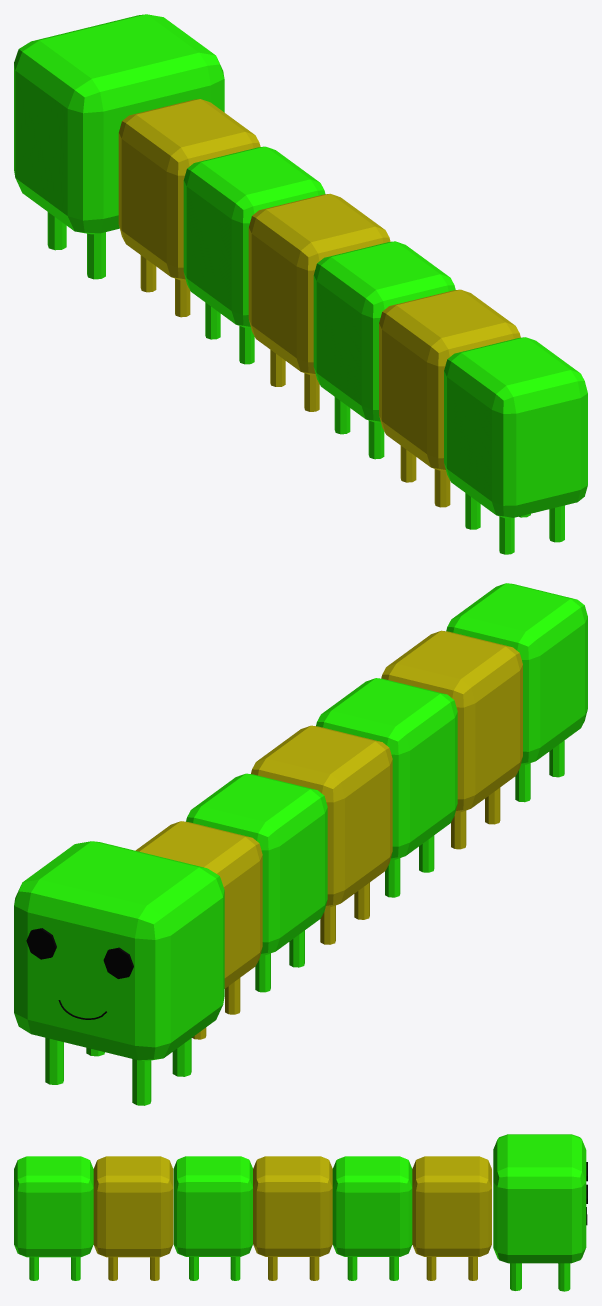
Rendered from catterpillar.fbx.
3 views of the same model, one above another, from view 1: azimuth 30°, elevation 25°; view 2: azimuth 150°, elevation 25°; view 3: azimuth 270°, elevation 25° (orthographic). The views are drawn at different scales.
Visible parts, largest first — view 1: Cube.008, Cube.006, Cube, Cube.003, Cube.001, Cube.002, Cube.007, Cylinder.027; view 2: Cube.008, Cube.001, Cube, Cube.002, Cube.007, Cube.006, Cube.003, Cylinder.029, Cylinder.030, Cylinder.031, Cylinder.032; view 3: Cube.008, Cube.007, Cube.002, Cube.006, Cube.003, Cube, Cube.001, Cylinder.030, Cylinder.028, Cylinder.014, Cylinder.018, Cylinder.020 (+9 smaller).
Boxes of the visible parts, x1,y1,x2,y2 form: Cube.008: [14, 14, 224, 234]; Cube.006: [444, 337, 587, 518]; Cube: [313, 241, 455, 422]; Cube.003: [118, 99, 260, 280]; Cube.001: [248, 193, 390, 375]; Cube.002: [183, 146, 325, 327]; Cube.007: [379, 289, 520, 471]; Cylinder.027: [87, 232, 105, 279]; Cube.008: [14, 841, 224, 1061]; Cube.001: [251, 725, 392, 907]; Cube: [316, 678, 457, 859]; Cube.002: [186, 773, 327, 955]; Cube.007: [381, 630, 522, 812]; Cube.006: [446, 583, 587, 764]; Cube.003: [135, 821, 262, 988]; Cylinder.029: [132, 1059, 151, 1105]; Cylinder.030: [45, 1037, 63, 1084]; Cylinder.031: [26, 928, 56, 959]; Cylinder.032: [103, 947, 133, 978]; Cube.008: [493, 1134, 586, 1263]; Cube.007: [93, 1156, 173, 1257]; Cube.002: [332, 1156, 412, 1256]; Cube.006: [14, 1156, 93, 1257]; Cube.003: [412, 1156, 491, 1256]; Cube: [173, 1156, 252, 1256]; Cube.001: [253, 1156, 332, 1256]; Cylinder.030: [558, 1263, 570, 1291]; Cylinder.028: [510, 1263, 521, 1290]; Cylinder.014: [230, 1257, 240, 1280]; Cylinder.018: [309, 1257, 319, 1280]; Cylinder.020: [347, 1257, 357, 1280].
Size of the model in its own units: 270 by 337 by 1407.
